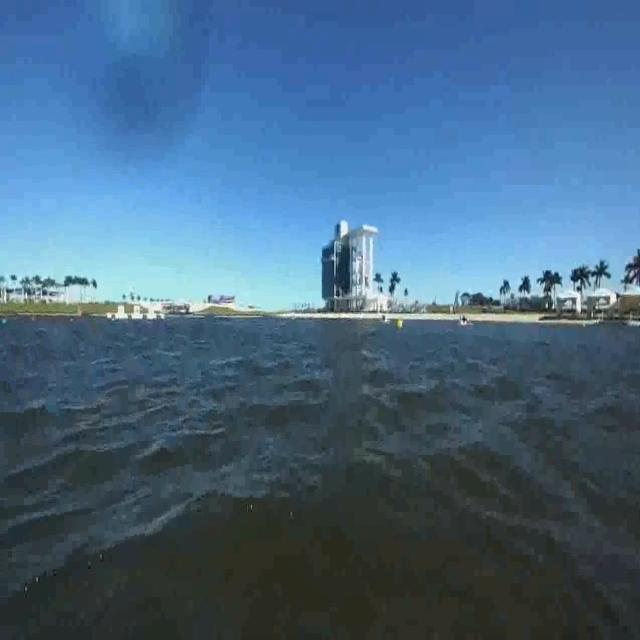yellow-buoy: (395, 316, 403, 331)
